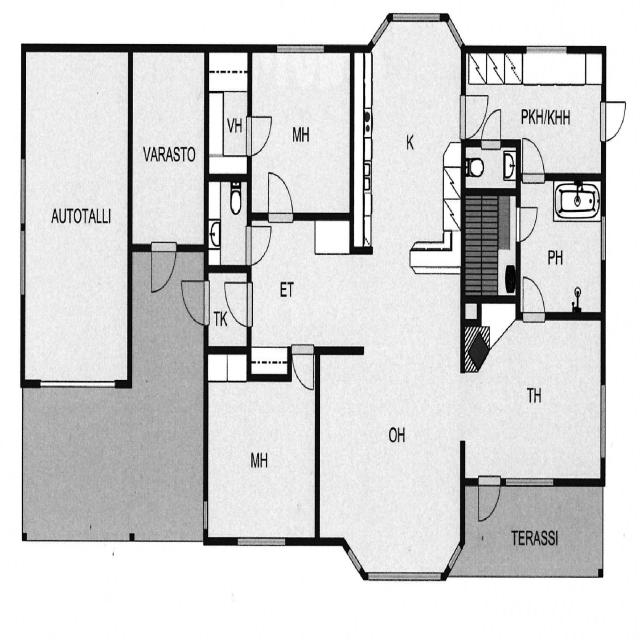door: (23, 50, 128, 386), (465, 297, 603, 479), (352, 41, 459, 255), (204, 358, 318, 544), (248, 46, 353, 224), (134, 46, 207, 255), (463, 50, 608, 139), (517, 170, 600, 315), (208, 49, 252, 181), (463, 192, 515, 298), (204, 177, 250, 266), (465, 143, 515, 193)
window: (363, 561, 442, 588), (17, 160, 27, 304), (599, 374, 611, 466), (503, 476, 553, 494), (394, 6, 438, 26), (232, 536, 290, 550), (273, 38, 323, 52), (525, 39, 567, 54), (444, 12, 462, 44), (344, 540, 362, 570), (600, 207, 609, 264), (369, 12, 387, 40), (446, 544, 460, 572), (203, 504, 210, 536)
zone: (176, 274, 215, 328), (219, 277, 254, 327), (145, 236, 175, 294), (266, 166, 295, 226), (596, 99, 630, 146), (456, 93, 486, 140), (518, 133, 546, 183), (480, 98, 504, 156), (246, 112, 274, 157), (517, 276, 542, 324), (476, 480, 500, 530), (246, 223, 272, 267), (284, 346, 314, 384), (511, 198, 534, 242)
